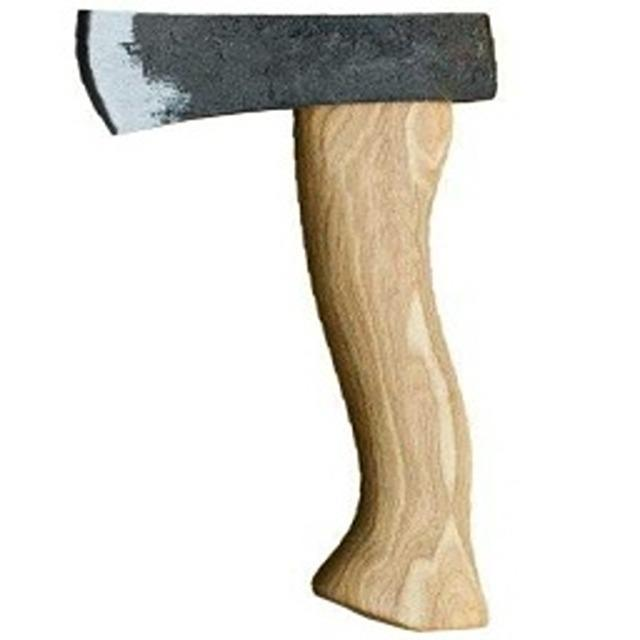ax: (71, 0, 512, 635)
